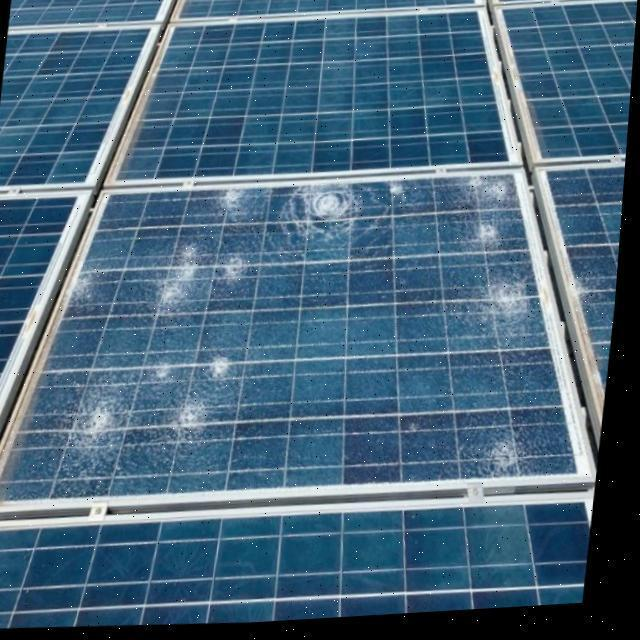Anomaly Solar Panel: (2, 178, 608, 498)
Normal Solar Panel: (0, 501, 602, 629), (120, 14, 524, 181), (0, 198, 82, 497), (0, 30, 151, 186), (535, 175, 628, 428), (496, 4, 638, 169), (8, 0, 638, 26)
Structural Damage: (47, 362, 153, 475), (285, 183, 368, 239), (466, 431, 548, 485), (155, 241, 208, 310), (462, 169, 523, 210), (487, 282, 538, 327), (215, 248, 258, 292), (176, 401, 218, 445), (76, 264, 111, 305), (472, 223, 513, 257), (224, 186, 266, 219), (211, 352, 248, 386), (150, 354, 185, 382), (387, 183, 410, 207)
